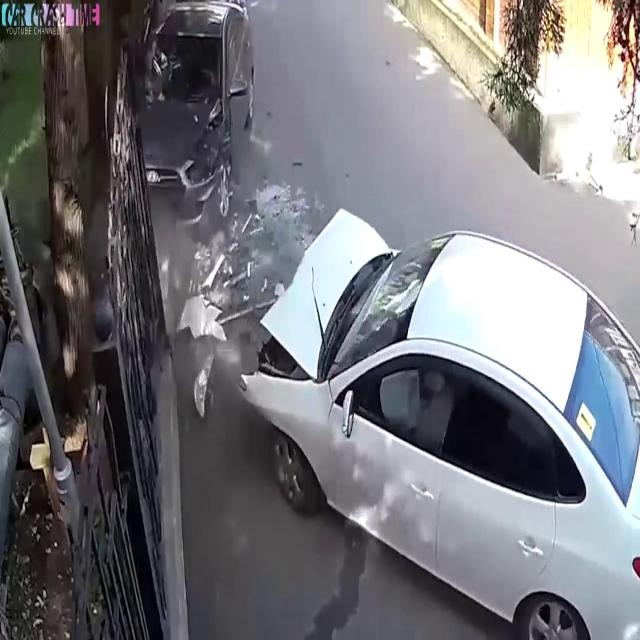accident: (176, 188, 640, 640), (140, 4, 255, 249)
